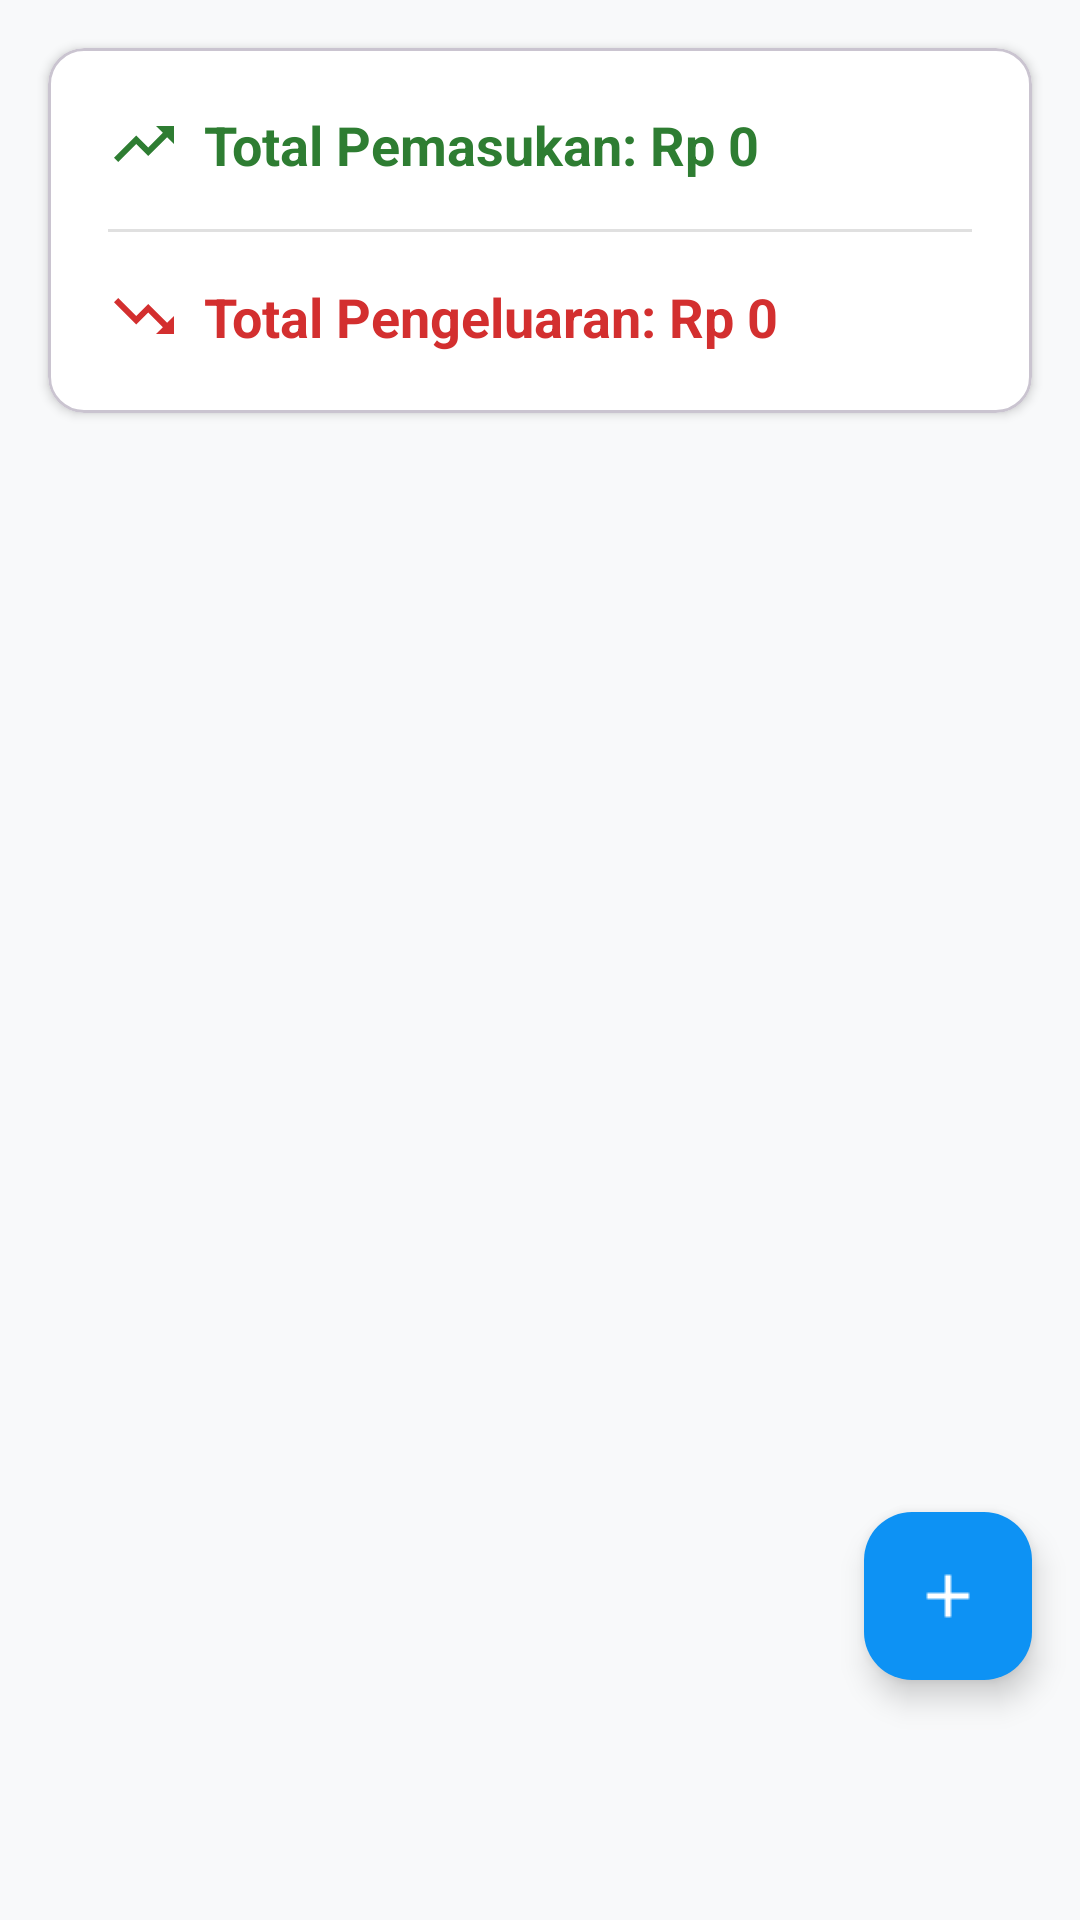

Icons on this 1080 x 1920 Android screen, each with its box as (x1, y1, x2, y2):
Tambah: (864, 1512, 1032, 1680)
